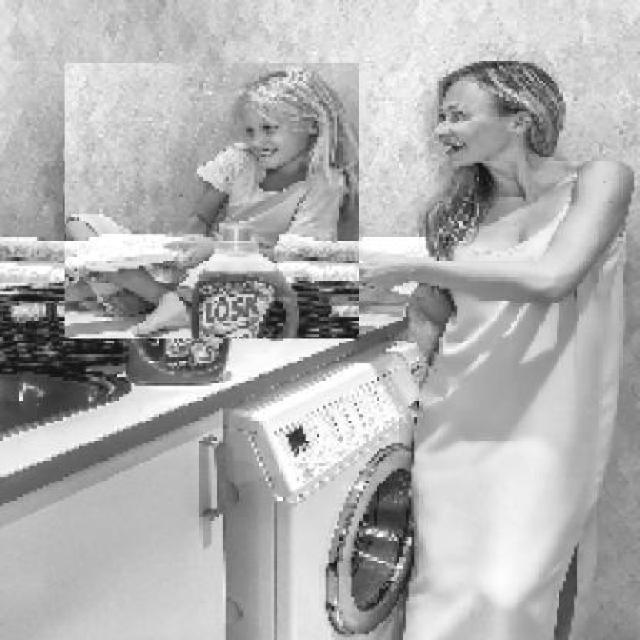child: (63, 63, 360, 340)
